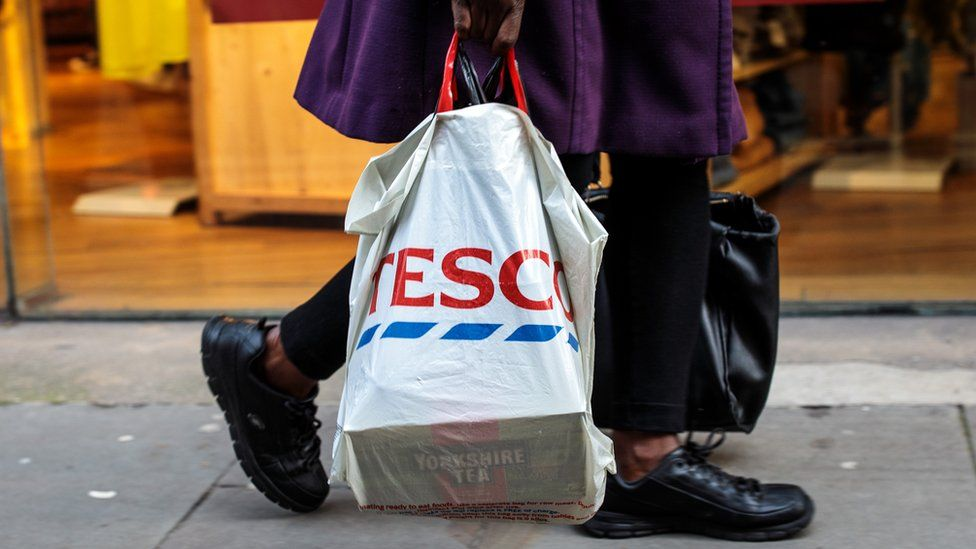plastic_bagwdw: (325, 59, 715, 549)
